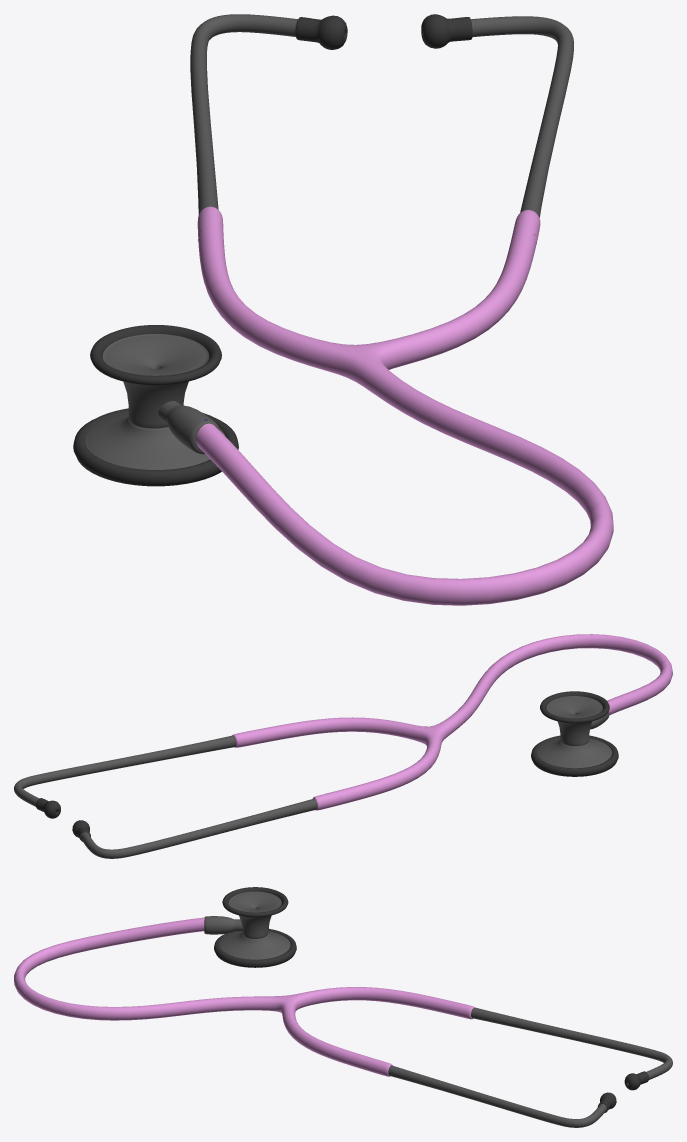
Rendered from estetoscopio.FBX.
The picture shows the model from 3 angles, top to bottom: view 1: azimuth 30°, elevation 25°; view 2: azimuth 150°, elevation 25°; view 3: azimuth 270°, elevation 25°; orthographic projection. The views are drawn at different scales.
Visible parts, largest first — view 1: estetoscopio; view 2: estetoscopio; view 3: estetoscopio.
Part boxes in pixels (<box>): estetoscopio: <box>73,14,613,605</box>; estetoscopio: <box>14,634,672,858</box>; estetoscopio: <box>14,887,672,1127</box>.
Bounding box in the file's own units: 116 × 15.03 × 165.
